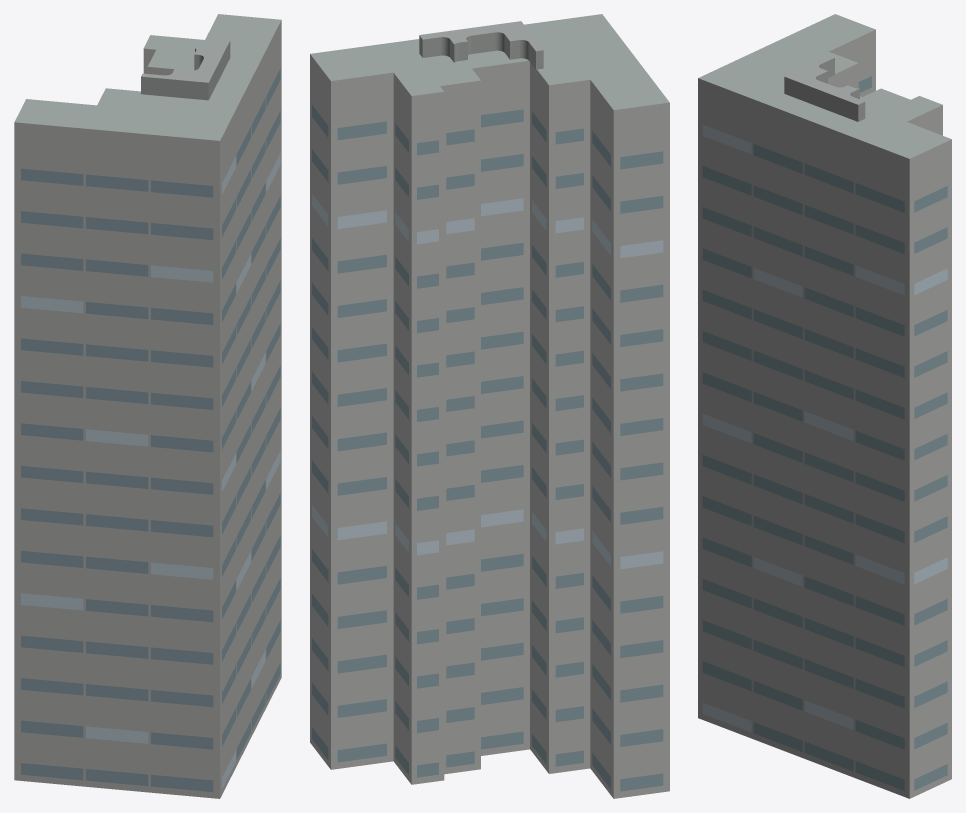
The model's file is fallback-godeok-arteon-completion-303.glb.
3 views of the same model, side by side, from view 1: azimuth 30°, elevation 25°; view 2: azimuth 150°, elevation 25°; view 3: azimuth 270°, elevation 25° (orthographic). The views are drawn at different scales.
Visible parts, largest first — view 1: fallback-godeok-arteon-completion-303; view 2: fallback-godeok-arteon-completion-303; view 3: fallback-godeok-arteon-completion-303.
Boxes of the visible parts, x1,y1,x2,y2 form: fallback-godeok-arteon-completion-303: (14, 14, 281, 798); fallback-godeok-arteon-completion-303: (310, 14, 669, 798); fallback-godeok-arteon-completion-303: (698, 14, 951, 798).
Bounding box in the file's own units: 43.53 × 92 × 32.22.
